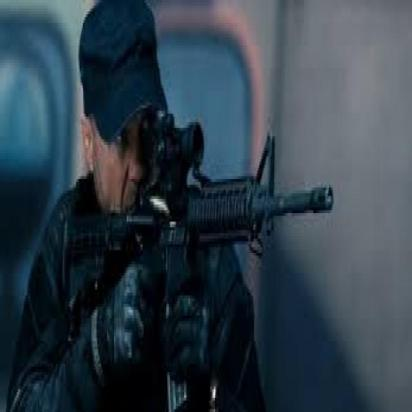Gun: (63, 123, 335, 412)
